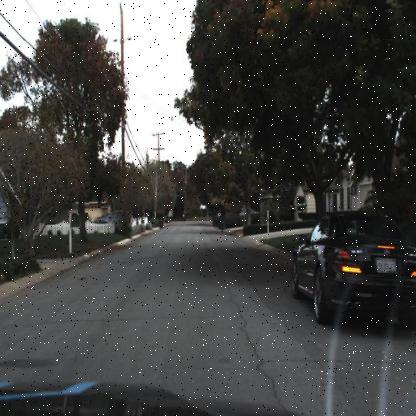car: (290, 210, 415, 330), (94, 206, 139, 230)
